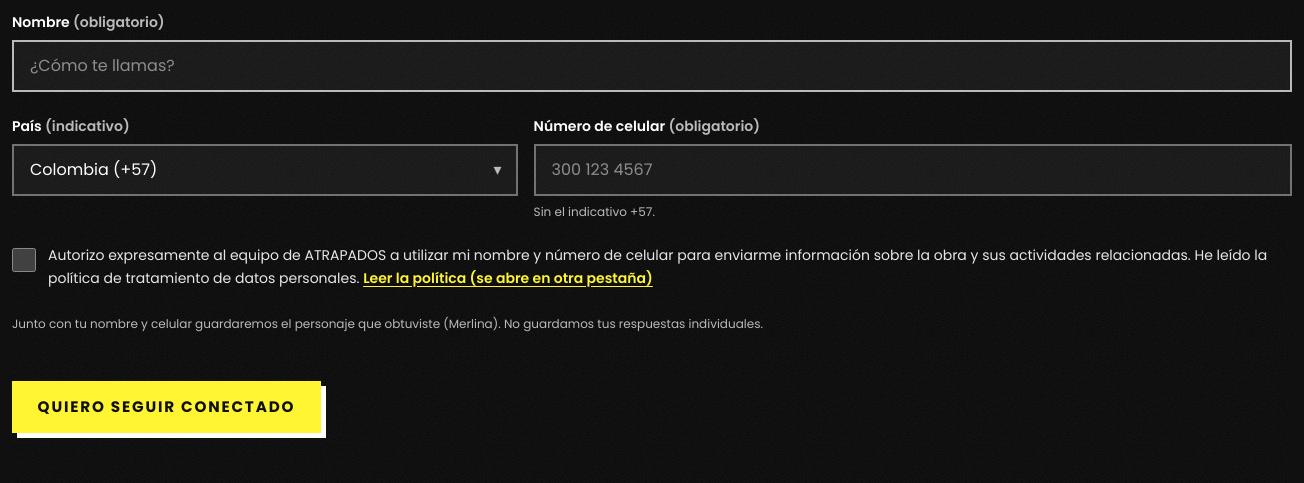
LeadForm › NO envía sin consentimiento
The image size is (1304, 483).
Type "Ana María" into the field labelled "Nombre (obligatorio)" at (652, 66), box top-left (12, 40), bottom-right (1292, 92)
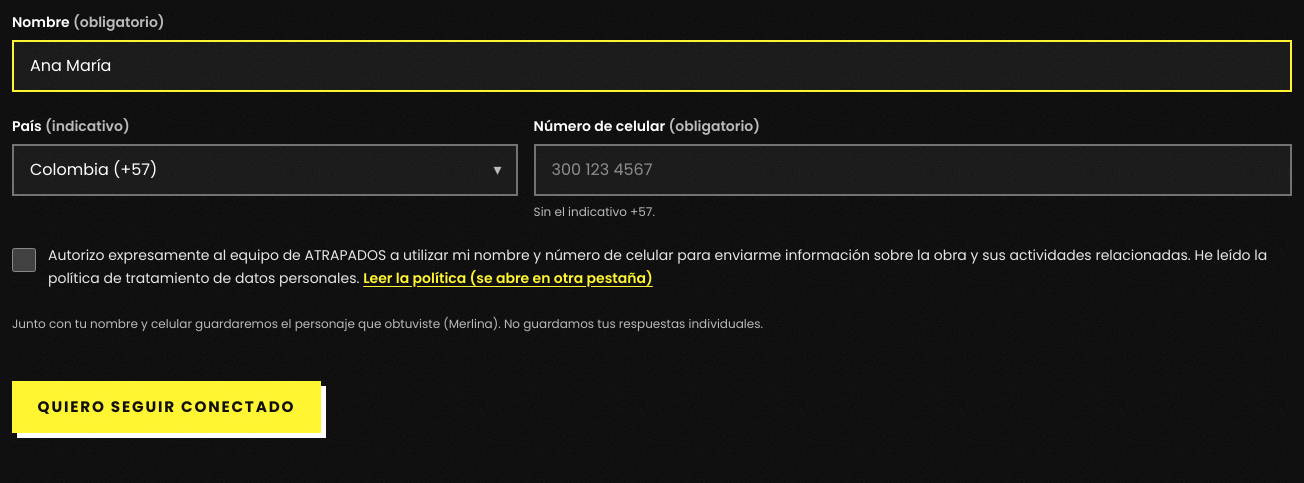
Type "3001234567" into the field labelled "Número de celular (obligatorio)" at (913, 170), box top-left (534, 144), bottom-right (1292, 196)
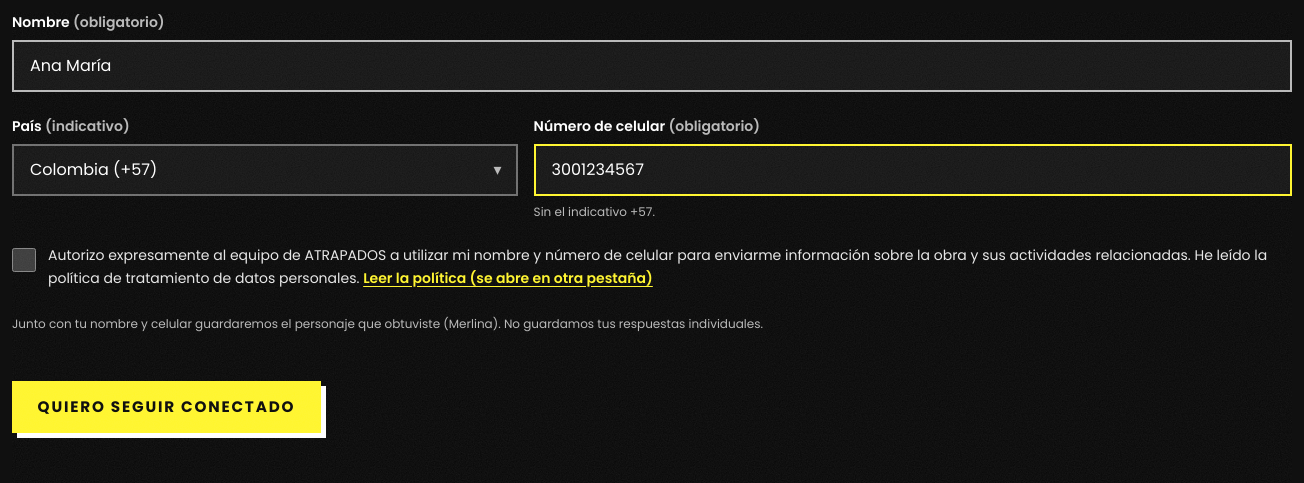
Click the button "Quiero seguir conectado" at (166, 407), box top-left (12, 381), bottom-right (321, 433)
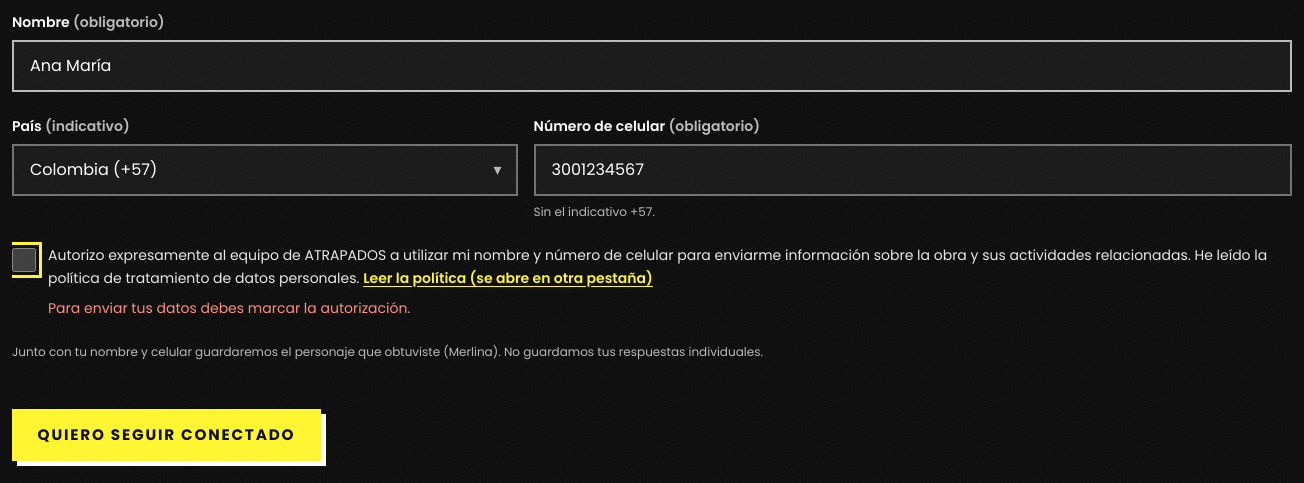
expect the text "Para enviar tus datos debes marcar la autorización." is shown: met, box top-left (48, 298), bottom-right (410, 318)
